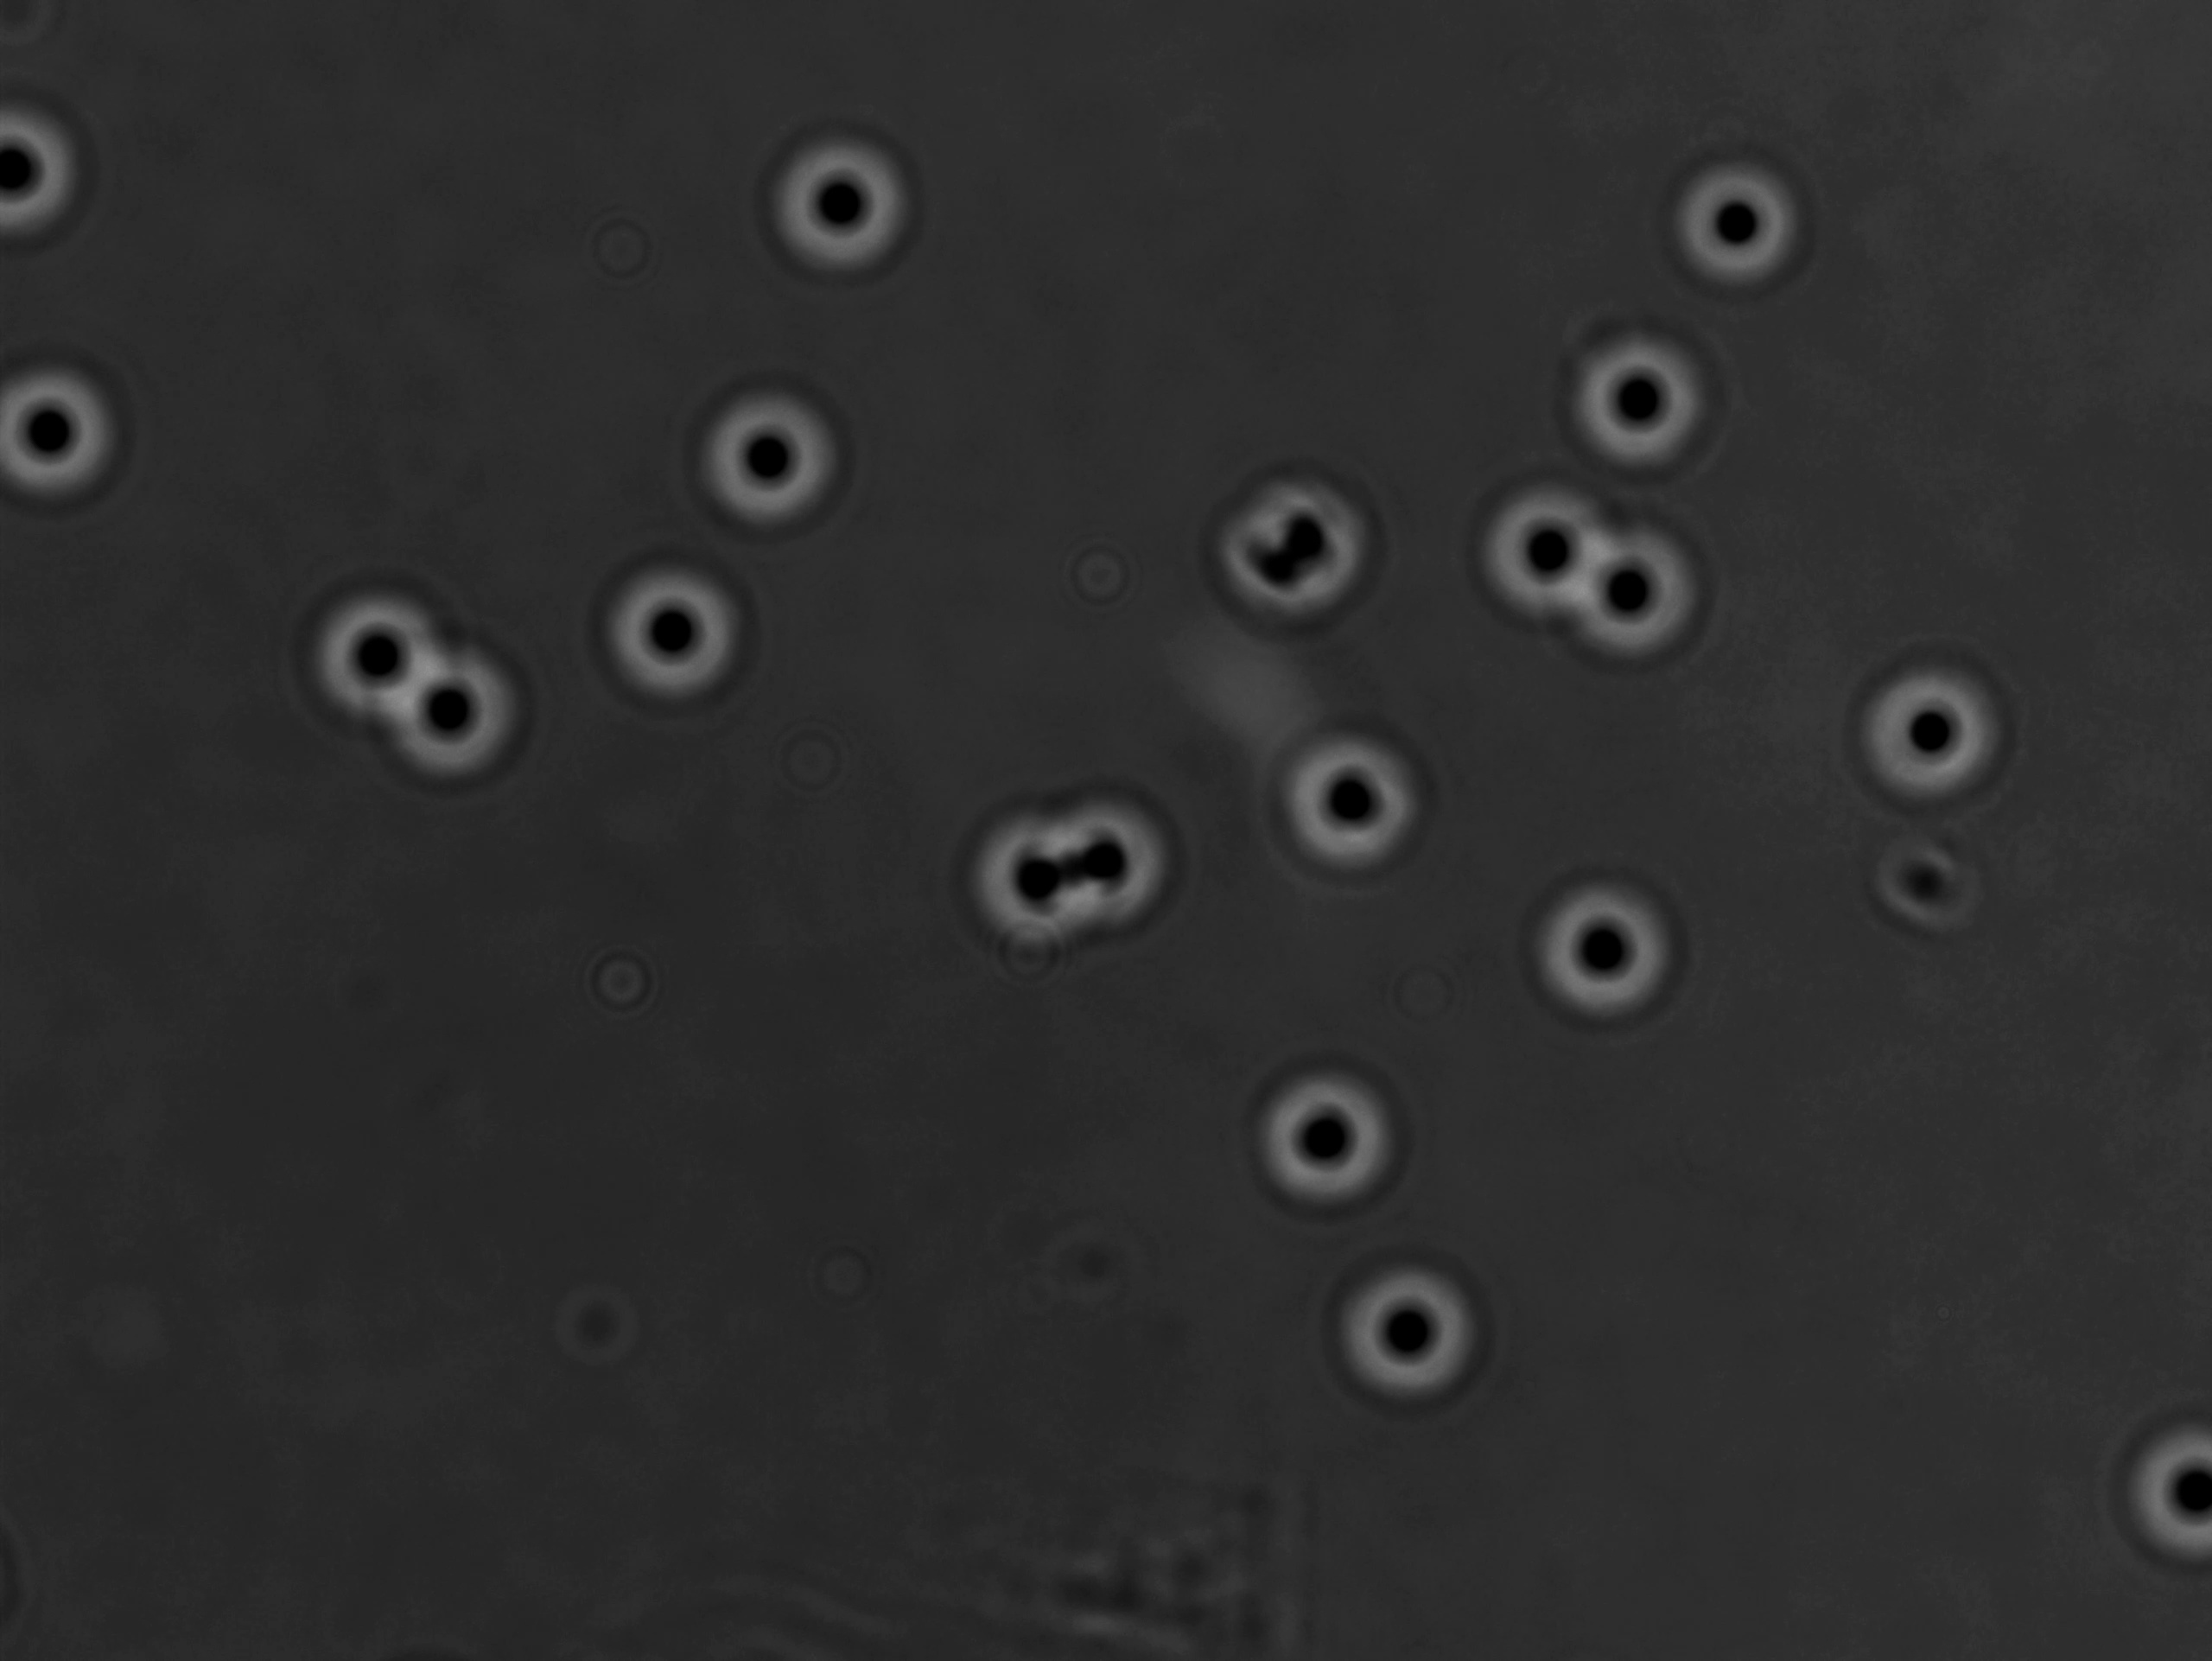depth:-40: (1846, 642, 2043, 813), (1230, 1049, 1420, 1223), (1636, 131, 1825, 304), (745, 126, 937, 291), (1505, 867, 1690, 1036), (1328, 1241, 1504, 1415), (600, 546, 776, 717), (679, 372, 862, 536), (1474, 468, 1643, 640), (1556, 314, 1729, 482), (1265, 728, 1441, 886), (298, 574, 462, 728), (1574, 525, 1727, 680), (389, 653, 546, 801), (2116, 1398, 2212, 1584)
